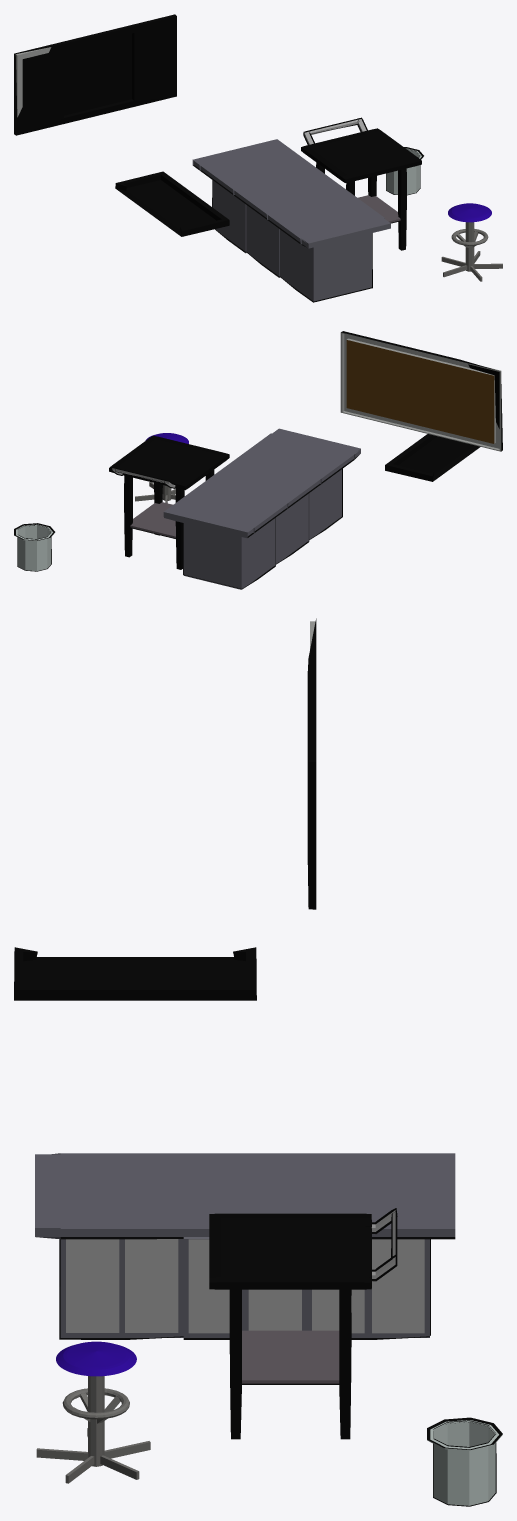
The model's file is coklu.fbx.
3 views of the same model, one above another, from view 1: azimuth 30°, elevation 25°; view 2: azimuth 150°, elevation 25°; view 3: azimuth 270°, elevation 25° (orthographic). The views are drawn at different scales.
Visible parts, largest first — view 1: Masa, Tablo, YuruyenMasa, Raf, Sandalye, Beherglas; view 2: Masa, Tablo, YuruyenMasa, Raf, Beherglas, Sandalye; view 3: Masa, YuruyenMasa, Raf, Sandalye, Beherglas, Tablo.
Boxes of the visible parts, x1=… form: Masa: x1=192, y1=139, x2=390, y2=302; Tablo: x1=14, y1=14, x2=176, y2=135; YuruyenMasa: x1=301, y1=117, x2=421, y2=250; Raf: x1=115, y1=171, x2=229, y2=236; Sandalye: x1=441, y1=203, x2=502, y2=281; Beherglas: x1=386, y1=147, x2=423, y2=195; Masa: x1=163, y1=428, x2=360, y2=589; Tablo: x1=340, y1=331, x2=502, y2=451; YuruyenMasa: x1=109, y1=435, x2=229, y2=569; Raf: x1=385, y1=434, x2=480, y2=481; Beherglas: x1=14, y1=523, x2=55, y2=571; Sandalye: x1=135, y1=433, x2=188, y2=503; Masa: x1=35, y1=1153, x2=455, y2=1339; YuruyenMasa: x1=209, y1=1208, x2=397, y2=1439; Raf: x1=14, y1=947, x2=256, y2=1000; Sandalye: x1=36, y1=1341, x2=150, y2=1483; Beherglas: x1=427, y1=1417, x2=502, y2=1506; Tablo: x1=307, y1=618, x2=316, y2=909.
Size of what is drawn, in the model's own units: 1185 by 680 by 613.
